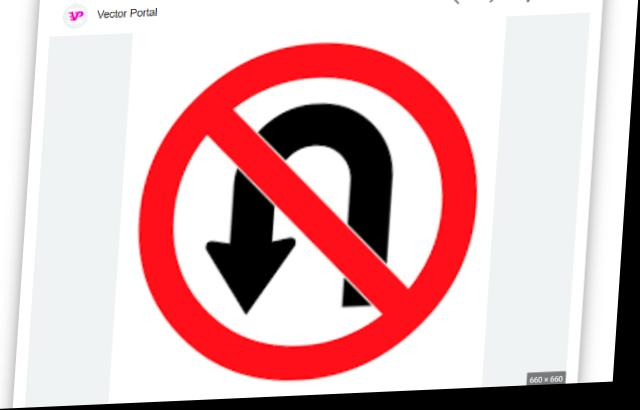not_u_turn_left: (130, 38, 488, 400)
